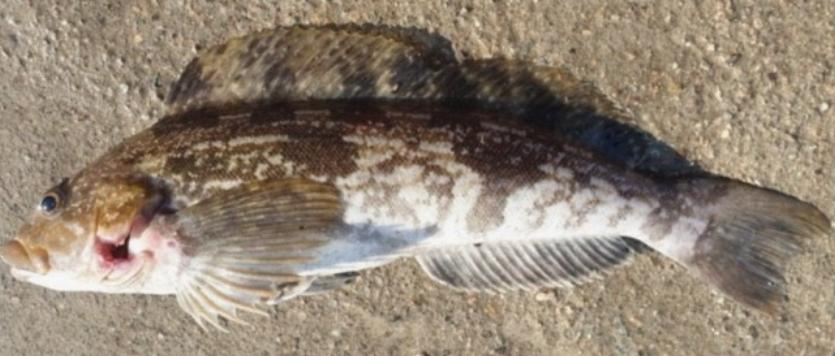fish: (0, 23, 830, 324)
